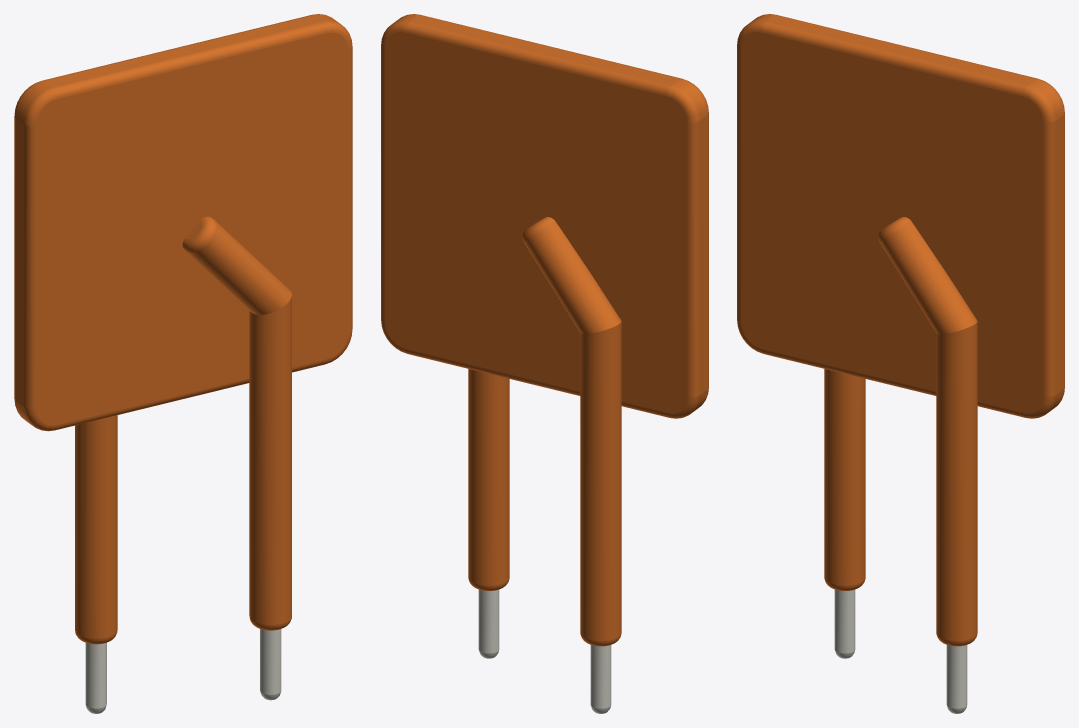
The model's file is kc-fuse_belfuse_0zre_0zre0040ff_l11.5mm_w3.8mm.glb.
3 renders of one model, left to right at view 1: azimuth 30°, elevation 25°; view 2: azimuth 150°, elevation 25°; view 3: azimuth 330°, elevation 25°, orthographic. The views are drawn at different scales.
Visible parts, largest first — view 1: 0.5833333333333334_0.16666666666666666_0_0, 0.6666666666666666_0.6666666666666666_0.5833333333333334_0.8; view 2: 0.5833333333333334_0.16666666666666666_0_0, 0.6666666666666666_0.6666666666666666_0.5833333333333334_0.8; view 3: 0.5833333333333334_0.16666666666666666_0_0, 0.6666666666666666_0.6666666666666666_0.5833333333333334_0.8.
Boxes of the visible parts, x1,y1,x2,y2 form: 0.5833333333333334_0.16666666666666666_0_0: (14, 14, 352, 644); 0.6666666666666666_0.6666666666666666_0.5833333333333334_0.8: (85, 629, 281, 713); 0.5833333333333334_0.16666666666666666_0_0: (381, 14, 708, 646); 0.6666666666666666_0.6666666666666666_0.5833333333333334_0.8: (478, 589, 611, 713); 0.5833333333333334_0.16666666666666666_0_0: (737, 14, 1064, 646); 0.6666666666666666_0.6666666666666666_0.5833333333333334_0.8: (834, 589, 967, 713).
Bounding box in the file's own units: 1.15 × 2.2 × 0.3099.
